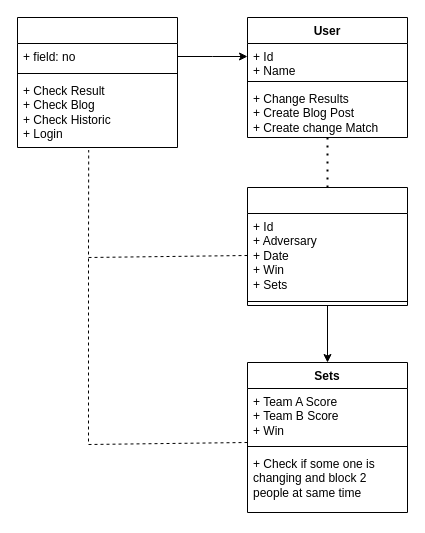
This 425x533 diagram has some shape labels left out. The box of each missing label's shape, as (x1, y1, x2, y2) in pixels:
Guest: (16, 16, 178, 148)
Match: (246, 186, 408, 306)
